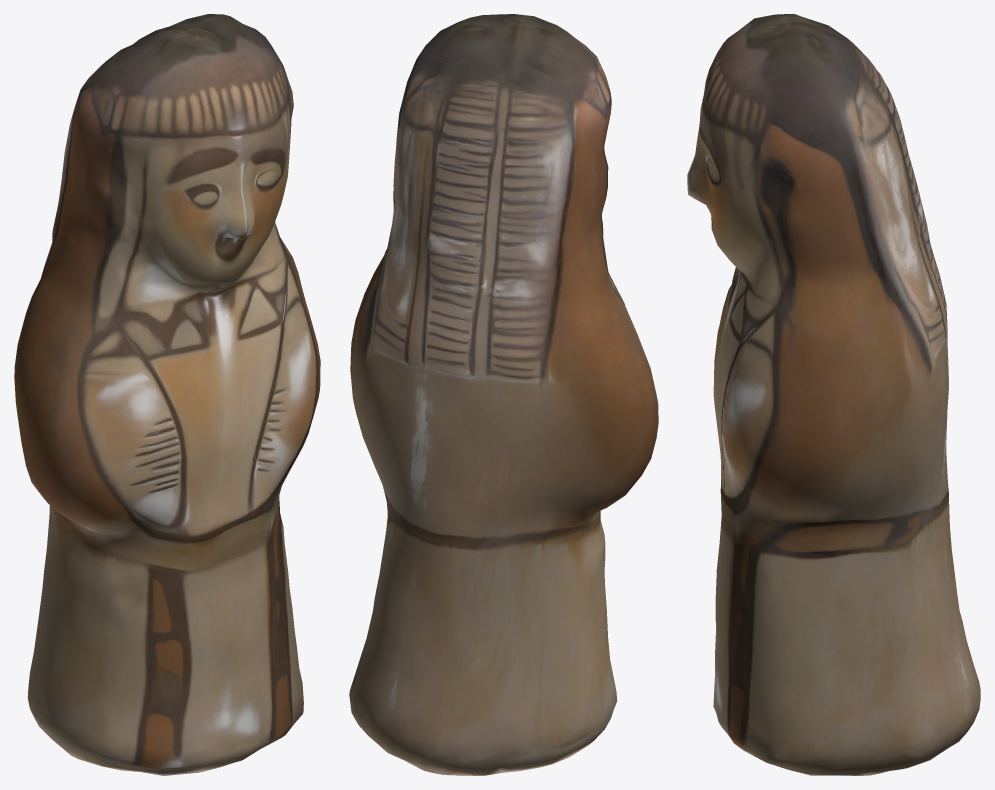
The model's file is Ancient_Guardian_Stat_0516144711_texture.glb.
The picture shows the model from 3 angles, left to right: view 1: azimuth 30°, elevation 25°; view 2: azimuth 150°, elevation 25°; view 3: azimuth 270°, elevation 25°; orthographic projection. The views are drawn at different scales.
Bounding box in the file's own units: 0.8295 × 2 × 0.7569.
Materials: 1 (1 with a texture image).
